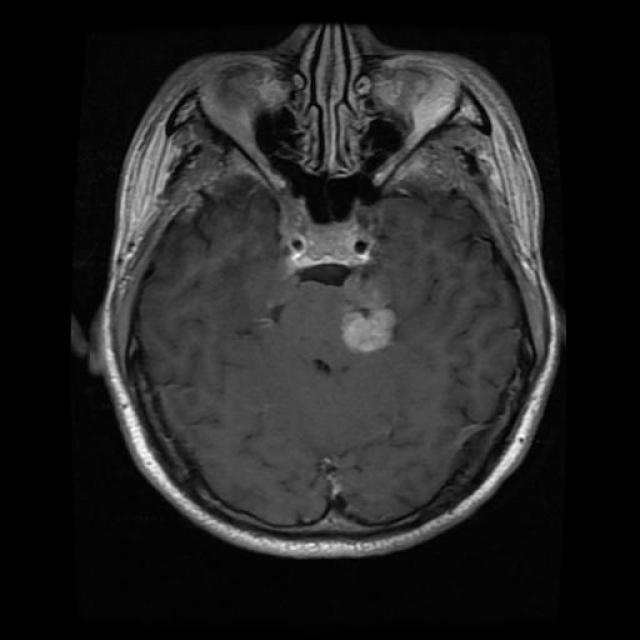meningioma: (341, 304, 396, 355)
